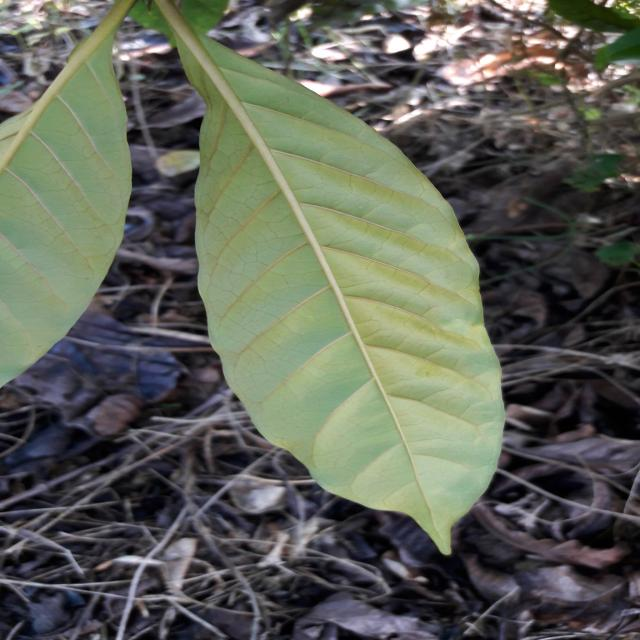Sanas: (140, 0, 506, 557)
